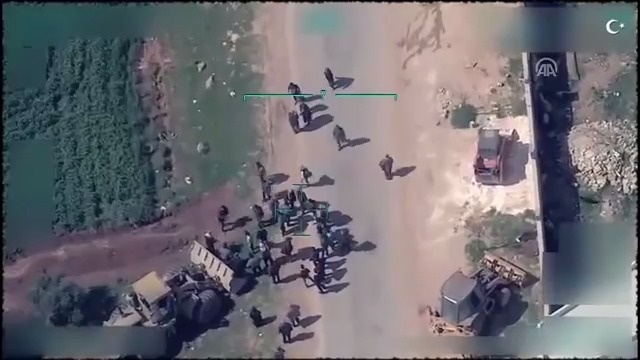insan: (331, 120, 352, 152), (377, 149, 398, 180), (320, 62, 341, 91), (215, 200, 232, 234), (298, 263, 316, 290), (278, 319, 296, 344)
